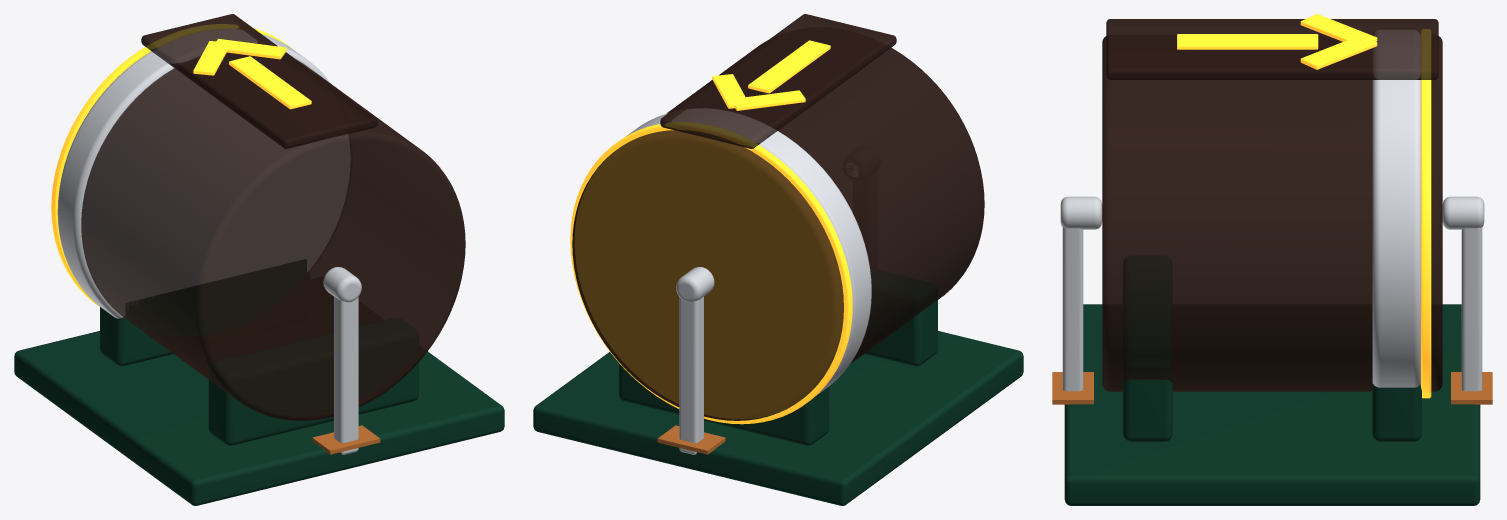
File: diode.glb
The picture shows the model from 3 angles, left to right: view 1: azimuth 30°, elevation 25°; view 2: azimuth 150°, elevation 25°; view 3: azimuth 270°, elevation 25°; orthographic projection. The views are drawn at different scales.
Visible parts, largest first — view 1: diode; view 2: diode; view 3: diode.
Part boxes in pixels (x1,y1,x2,y2): diode: [14, 14, 504, 505]; diode: [533, 14, 1023, 505]; diode: [1052, 14, 1492, 505].
Bounding box in the file's own units: 1 × 1.01 × 1.06.
